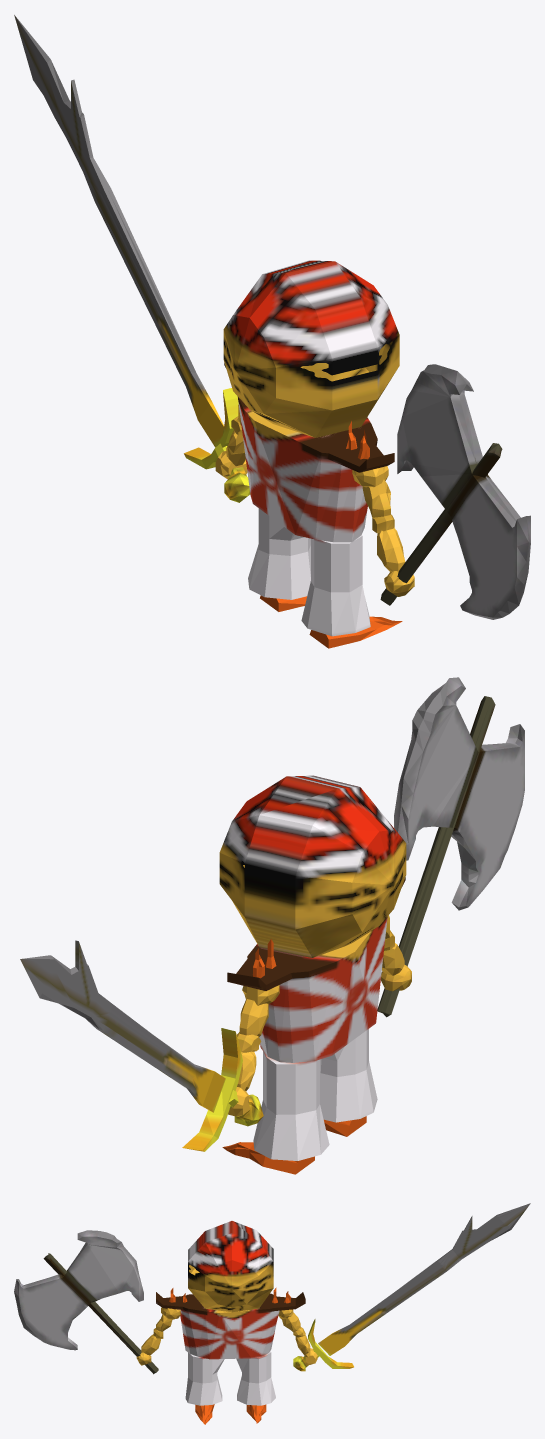
Rendered from Yoyo.glb.
3 renders of one model, top to bottom at view 1: azimuth 30°, elevation 25°; view 2: azimuth 150°, elevation 25°; view 3: azimuth 270°, elevation 25°, orthographic. The views are drawn at different scales.
Parts seen in each view (by area): view 1: Yoyo; view 2: Yoyo; view 3: Yoyo.
Boxes of the visible parts, x1,y1,x2,y2 form: Yoyo: (14,15,530,648); Yoyo: (20,677,524,1174); Yoyo: (14,1203,530,1424).
Bounding box in the file's own units: 46.41 × 111 × 255.
1 material, 1 textured.
